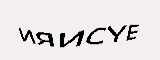Е: (125, 21, 140, 42)
И: (58, 26, 84, 48), (17, 24, 35, 47)
С: (84, 21, 106, 46)
Я: (36, 29, 55, 48)
Ү: (106, 22, 125, 44)
